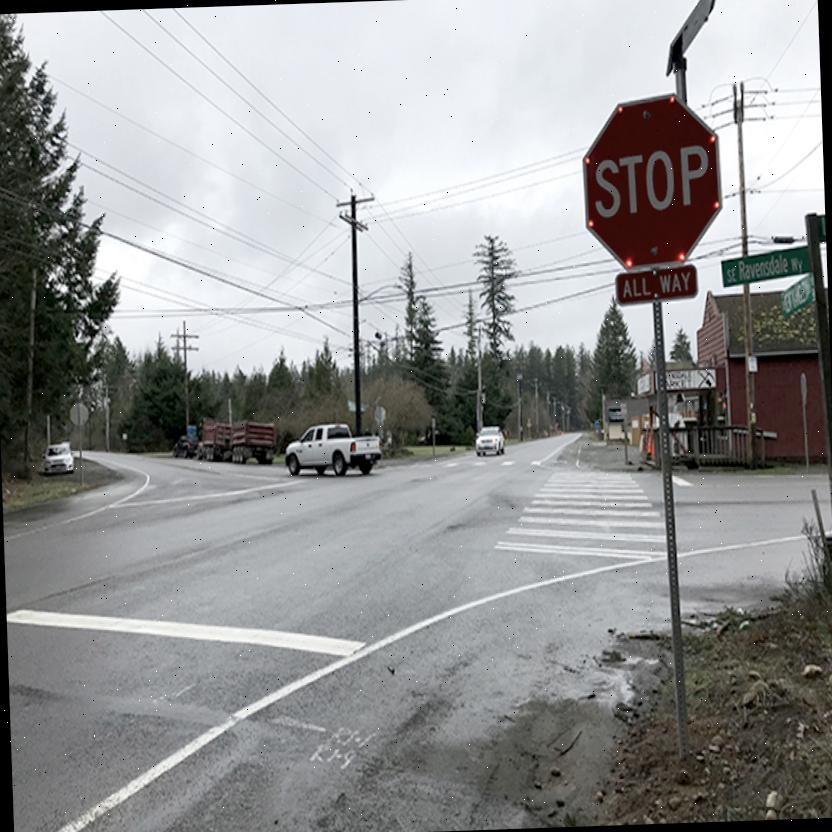Pole: (652, 300, 690, 756)
Sign: (581, 94, 725, 270)
